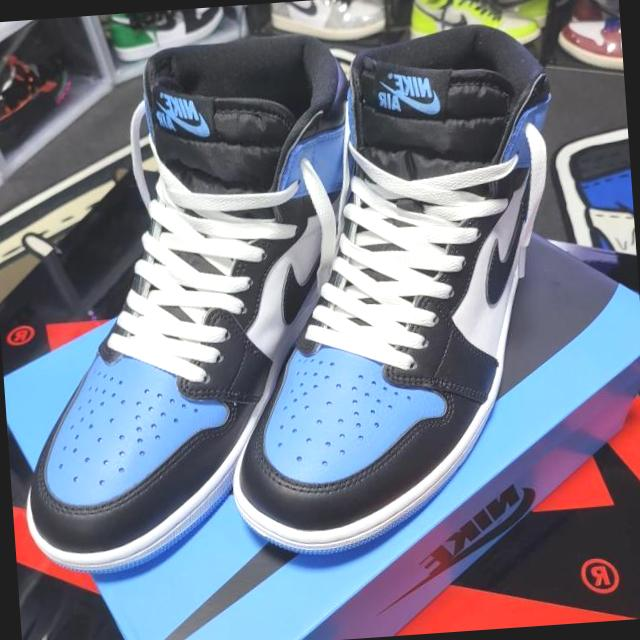nike_original_jordan: (0, 22, 383, 583), (199, 22, 580, 564)
